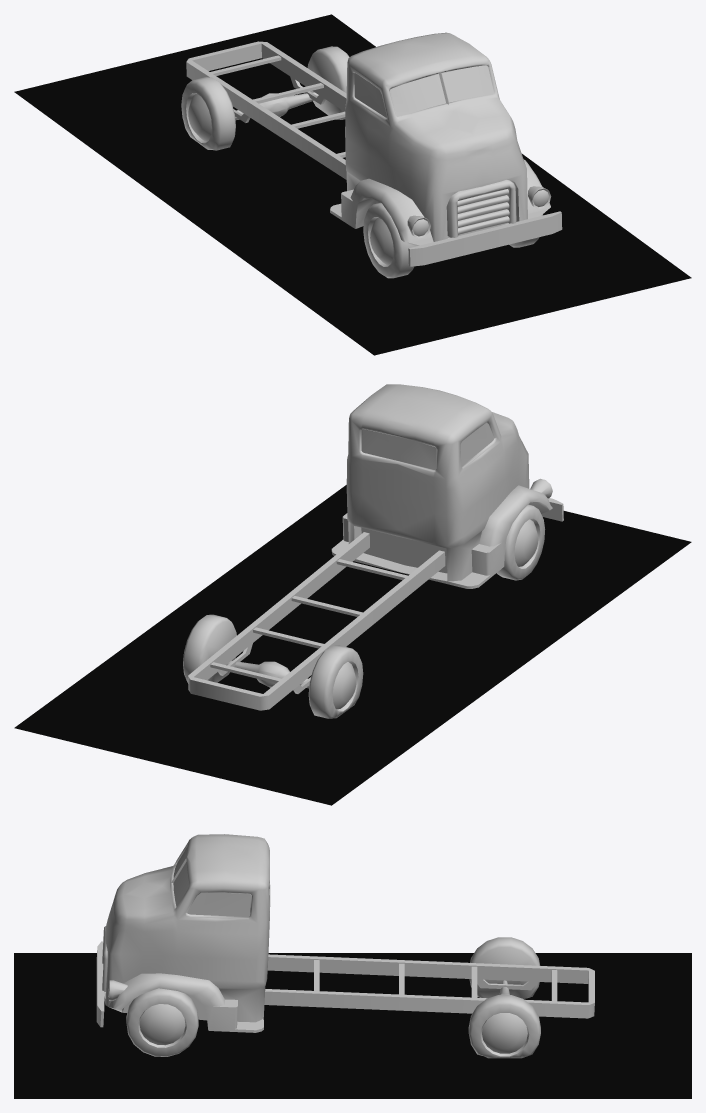
Rendered from coe.FBX.
3 renders of one model, top to bottom at view 1: azimuth 30°, elevation 25°; view 2: azimuth 150°, elevation 25°; view 3: azimuth 270°, elevation 25°, orthographic. The views are drawn at different scales.
Visible parts, largest first — view 1: Plane001, Object001, Object002; view 2: Plane001, Object001, Object002; view 3: Plane001, Object001, Object002.
Part boxes in pixels (x1=…): Plane001: x1=14, y1=14, x2=691, y2=355; Object001: x1=181, y1=32, x2=562, y2=278; Object002: x1=354, y1=65, x2=493, y2=117; Plane001: x1=14, y1=485, x2=691, y2=805; Object001: x1=183, y1=384, x2=563, y2=718; Object002: x1=361, y1=423, x2=494, y2=469; Plane001: x1=14, y1=953, x2=691, y2=1098; Object001: x1=96, y1=834, x2=594, y2=1058; Object002: x1=173, y1=846, x2=250, y2=916.
Size of the model in its own units: 280 by 155 by 550.
